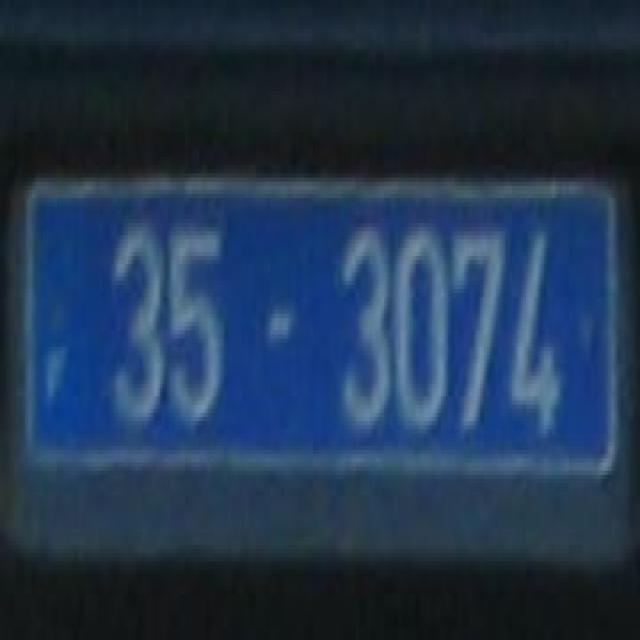licenseplate: (20, 179, 613, 483)
